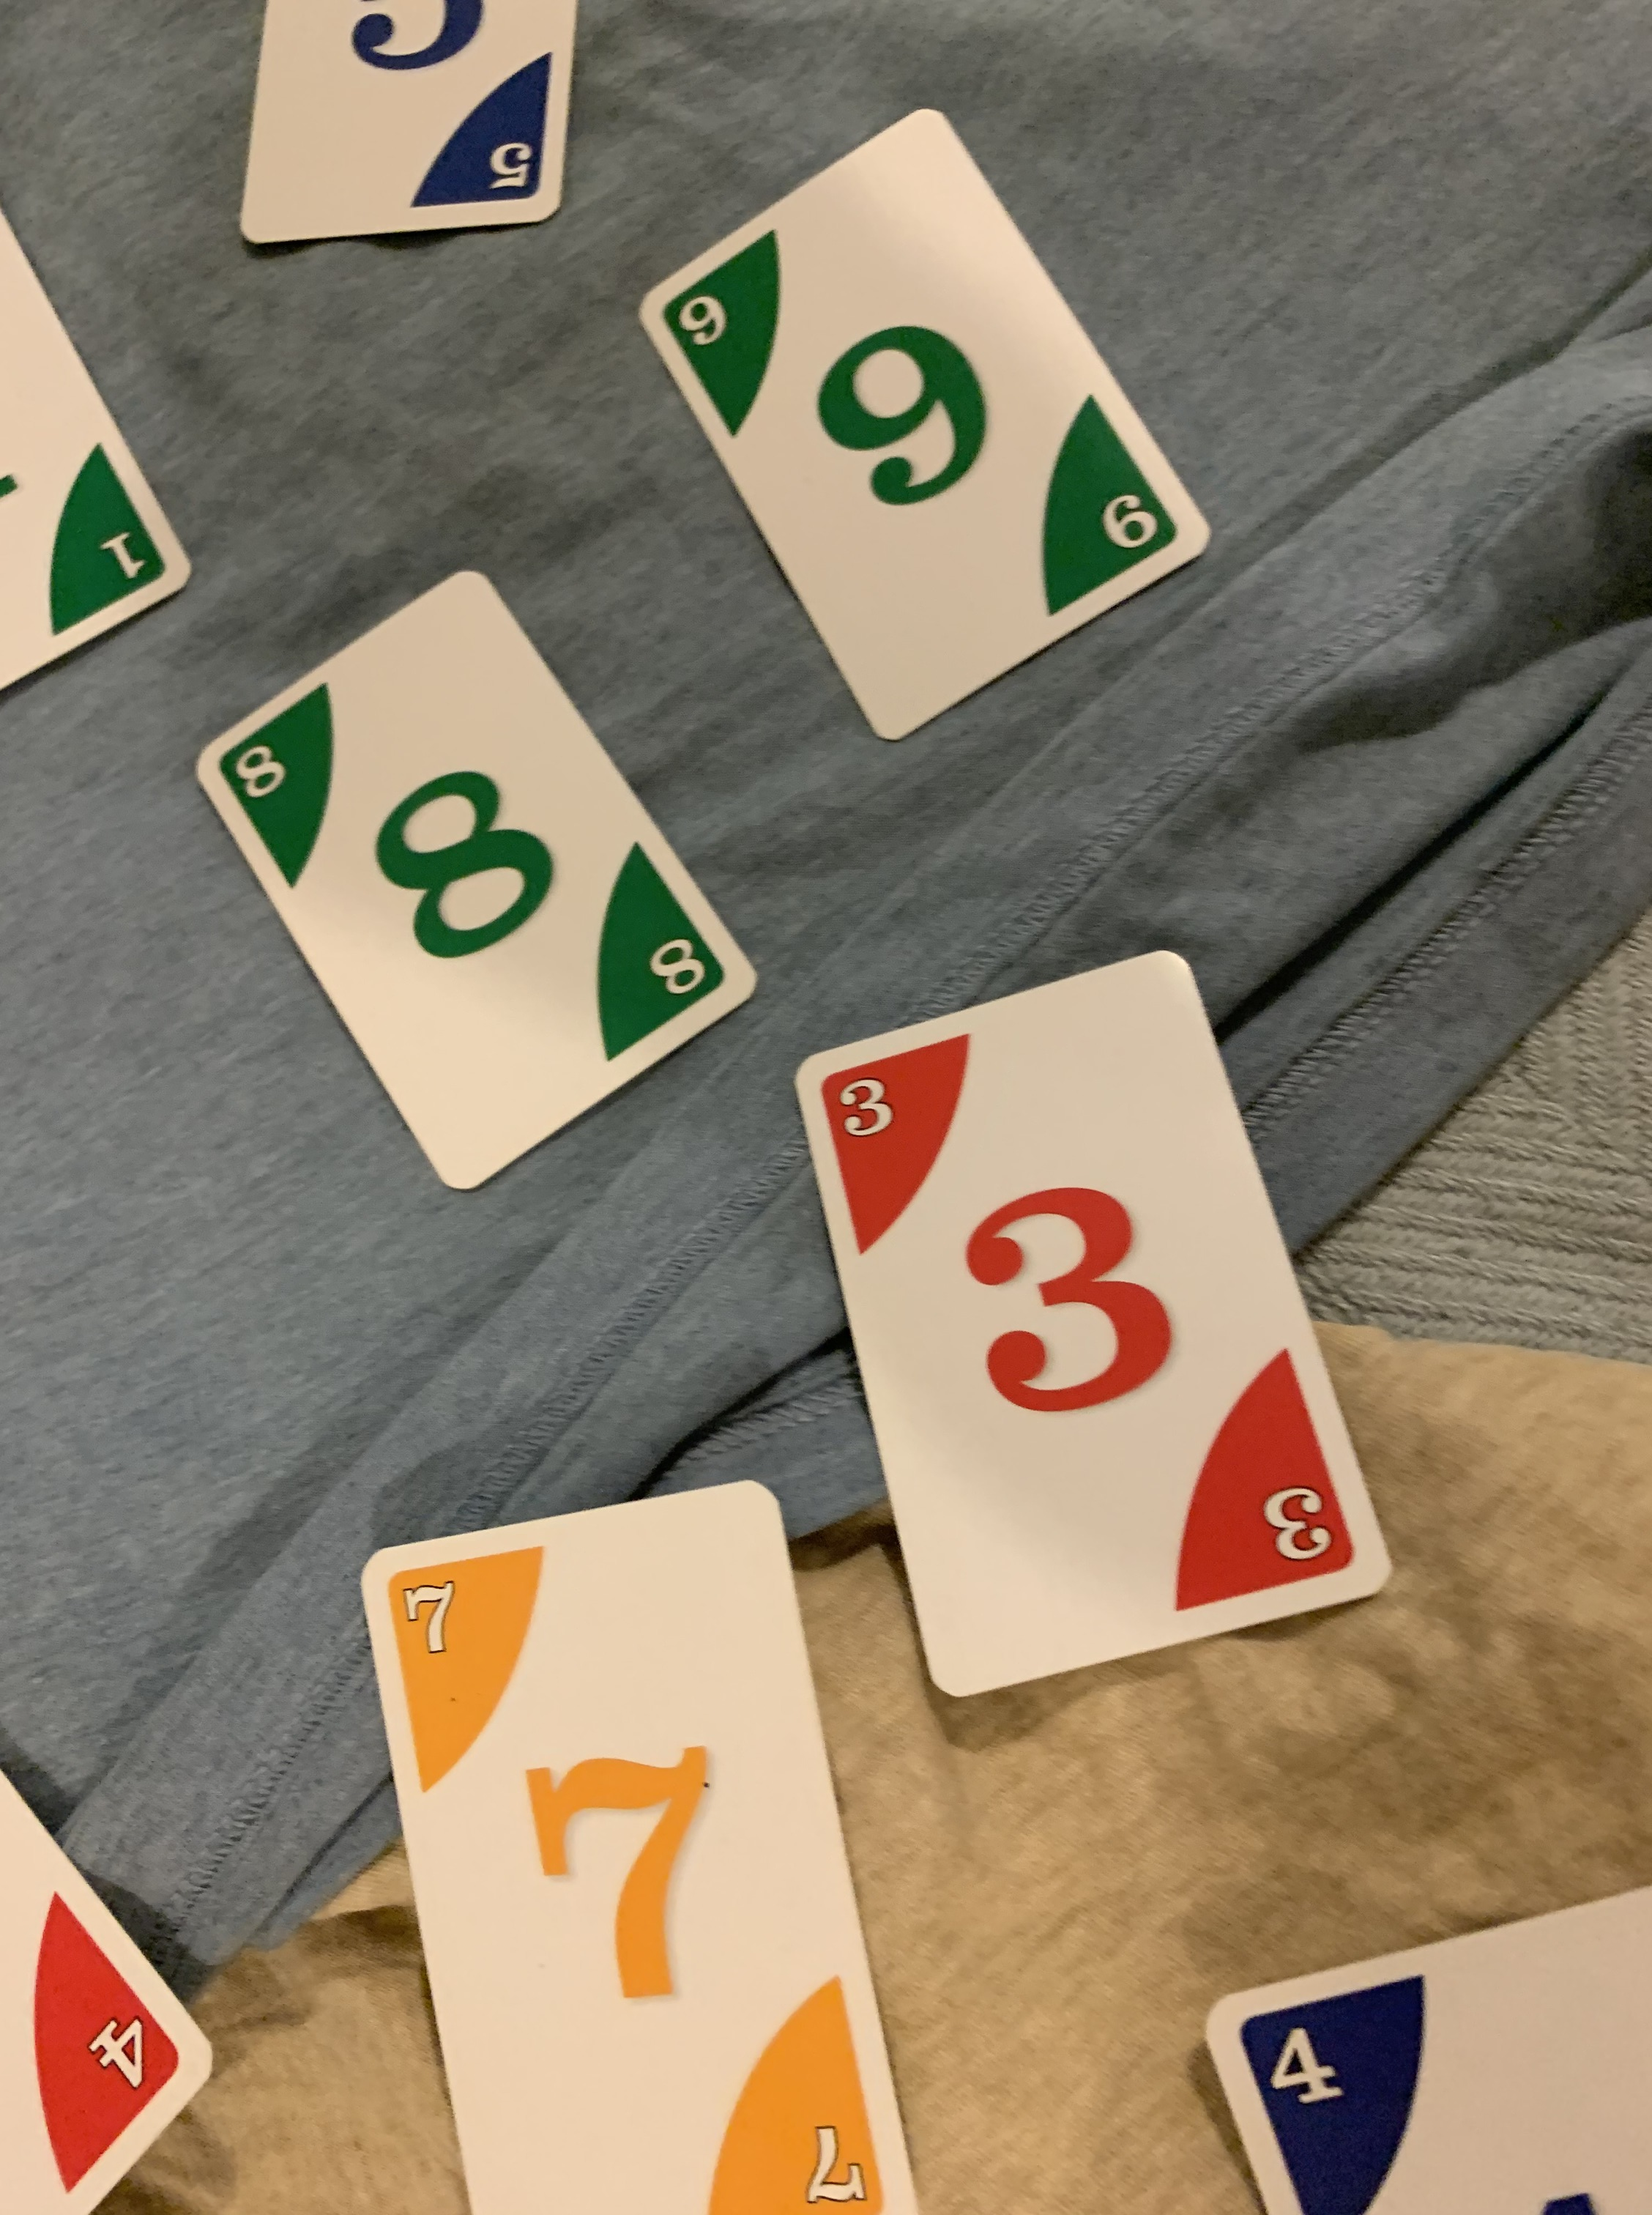eight: (186, 552, 769, 1219)
nine: (639, 102, 1225, 774)
seven: (363, 1458, 935, 2215)
three: (791, 927, 1418, 1705)
